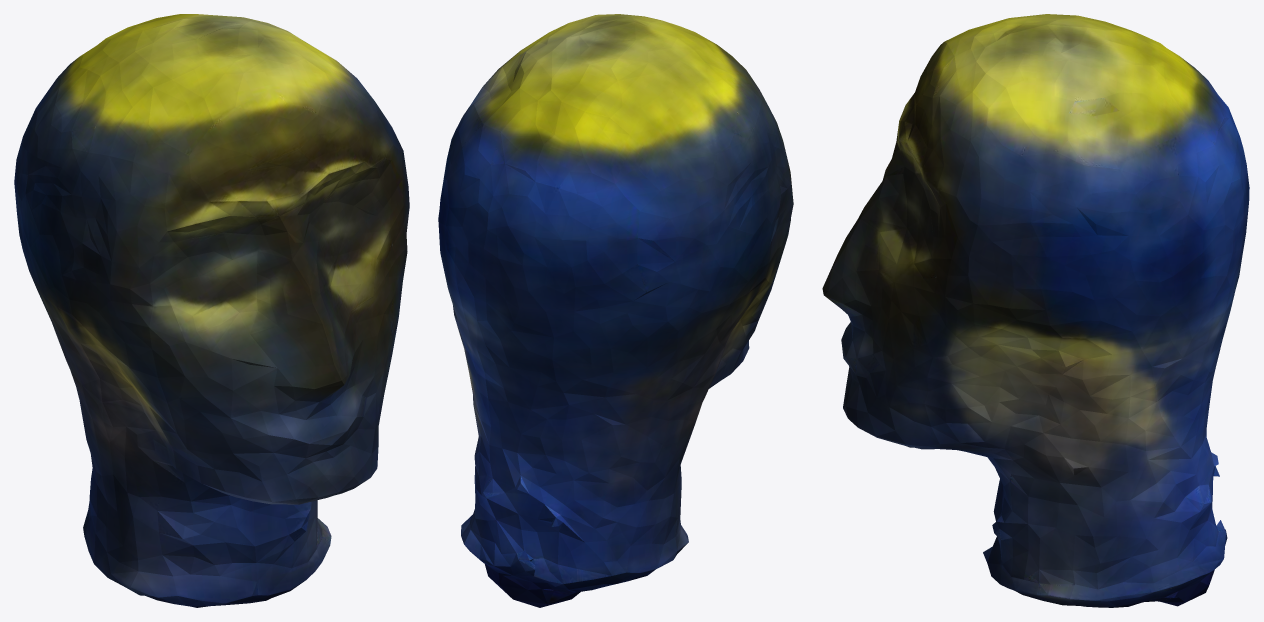
File: head.glb
The picture shows the model from 3 angles, left to right: view 1: azimuth 30°, elevation 25°; view 2: azimuth 150°, elevation 25°; view 3: azimuth 270°, elevation 25°; orthographic projection. The views are drawn at different scales.
Parts seen in each view (by area): view 1: ObjectToExport; view 2: ObjectToExport; view 3: ObjectToExport.
Boxes of the visible parts, x1=… form: ObjectToExport: x1=14, y1=14, x2=409, y2=607; ObjectToExport: x1=438, y1=14, x2=793, y2=607; ObjectToExport: x1=822, y1=14, x2=1249, y2=607.
Size of the model in its own units: 0.3356 by 0.5675 by 0.3953.
1 material, 1 textured.
